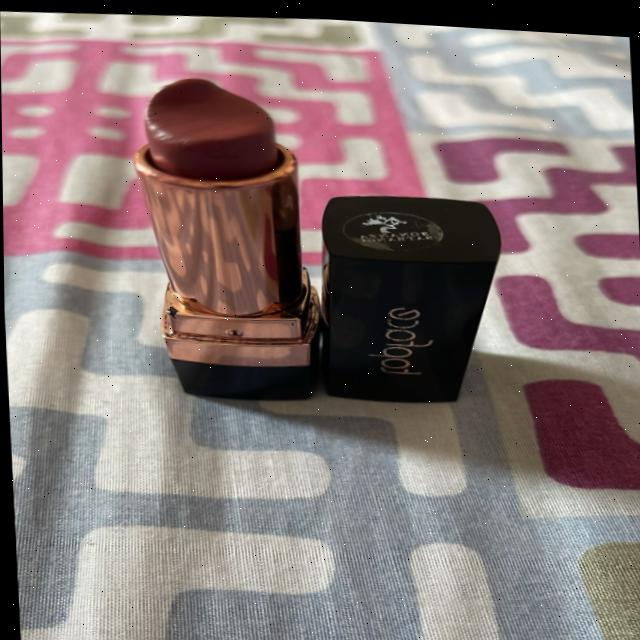lip stick: (103, 52, 335, 407)
